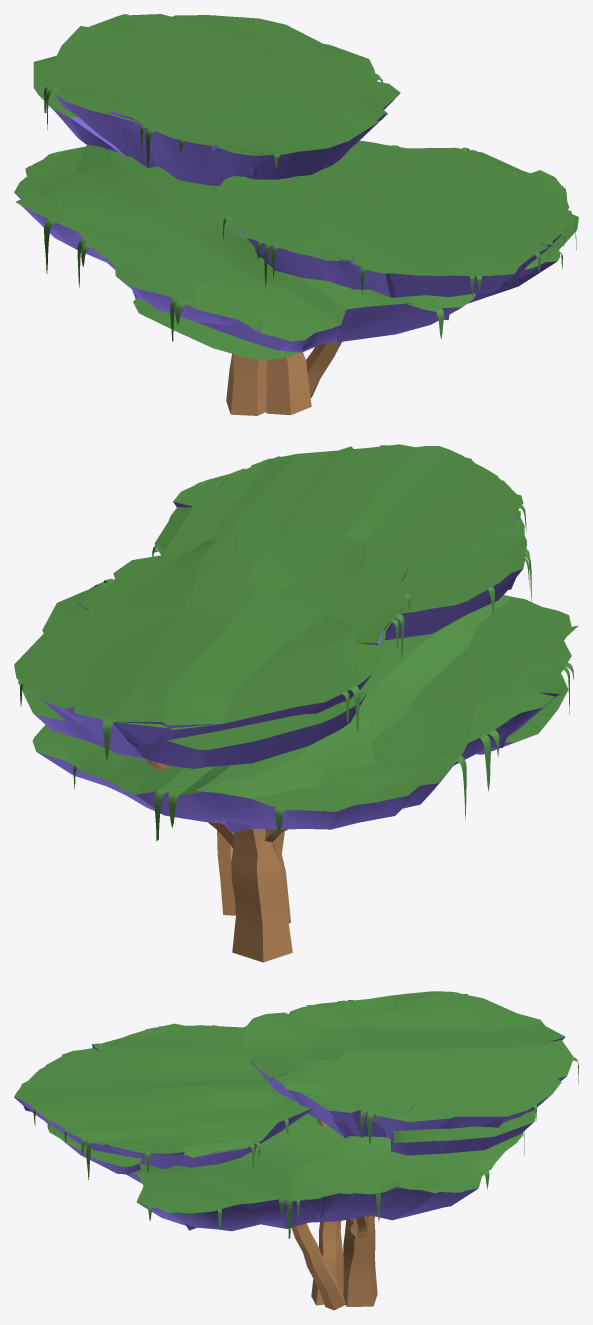
File: tree_canopy_D.fbx
3 views of the same model, one above another, from view 1: azimuth 30°, elevation 25°; view 2: azimuth 150°, elevation 25°; view 3: azimuth 270°, elevation 25° (orthographic). The views are drawn at different scales.
Visible parts, largest first — view 1: tree_D_canopy_A_extruded, tree_D_canopy_C_extruded, tree_D_canopy_B, tree_D_canopy_C, tree_D_canopy_B_extruded, tree_D_canopy_A, tree_D_canopy_trunks_bottom_B, tree_D_canopy_trunks_bottom_A, tree_D_canopy_trunks_bottom_H; view 2: tree_D_canopy_C_extruded, tree_D_canopy_A_extruded, tree_D_canopy_C, tree_D_canopy_B, tree_D_canopy_B_extruded, tree_D_canopy_A, tree_D_canopy_trunks_bottom_A, tree_D_canopy_trunks_bottom_H; view 3: tree_D_canopy_C_extruded, tree_D_canopy_B, tree_D_canopy_A_extruded, tree_D_canopy_C, tree_D_canopy_B_extruded, tree_D_canopy_A, tree_D_canopy_trunks_bottom_A, tree_D_canopy_trunks_bottom_H, tree_D_canopy_trunks_bottom_B.
Part boxes in pixels (bbox=[...]): tree_D_canopy_A_extruded: bbox=[14, 145, 560, 359]; tree_D_canopy_C_extruded: bbox=[33, 15, 400, 179]; tree_D_canopy_B: bbox=[212, 140, 572, 297]; tree_D_canopy_C: bbox=[44, 14, 387, 185]; tree_D_canopy_B_extruded: bbox=[213, 142, 578, 297]; tree_D_canopy_A: bbox=[15, 144, 557, 352]; tree_D_canopy_trunks_bottom_B: bbox=[266, 352, 311, 415]; tree_D_canopy_trunks_bottom_A: bbox=[226, 353, 267, 415]; tree_D_canopy_trunks_bottom_H: bbox=[306, 342, 341, 397]; tree_D_canopy_C_extruded: bbox=[14, 535, 398, 768]; tree_D_canopy_A_extruded: bbox=[32, 599, 571, 829]; tree_D_canopy_C: bbox=[14, 533, 409, 757]; tree_D_canopy_B: bbox=[154, 444, 526, 633]; tree_D_canopy_B_extruded: bbox=[155, 444, 524, 640]; tree_D_canopy_A: bbox=[37, 595, 578, 832]; tree_D_canopy_trunks_bottom_A: bbox=[231, 829, 292, 962]; tree_D_canopy_trunks_bottom_H: bbox=[217, 830, 235, 915]; tree_D_canopy_C_extruded: bbox=[242, 991, 573, 1155]; tree_D_canopy_B: bbox=[14, 1023, 311, 1169]; tree_D_canopy_A_extruded: bbox=[133, 1113, 523, 1228]; tree_D_canopy_C: bbox=[242, 991, 573, 1138]; tree_D_canopy_B_extruded: bbox=[14, 1025, 311, 1174]; tree_D_canopy_A: bbox=[126, 1129, 477, 1231]; tree_D_canopy_trunks_bottom_A: bbox=[343, 1215, 377, 1306]; tree_D_canopy_trunks_bottom_H: bbox=[291, 1223, 345, 1310]; tree_D_canopy_trunks_bottom_B: bbox=[311, 1221, 343, 1305].
Bounding box in the file's own units: 781 × 582 × 1159.
